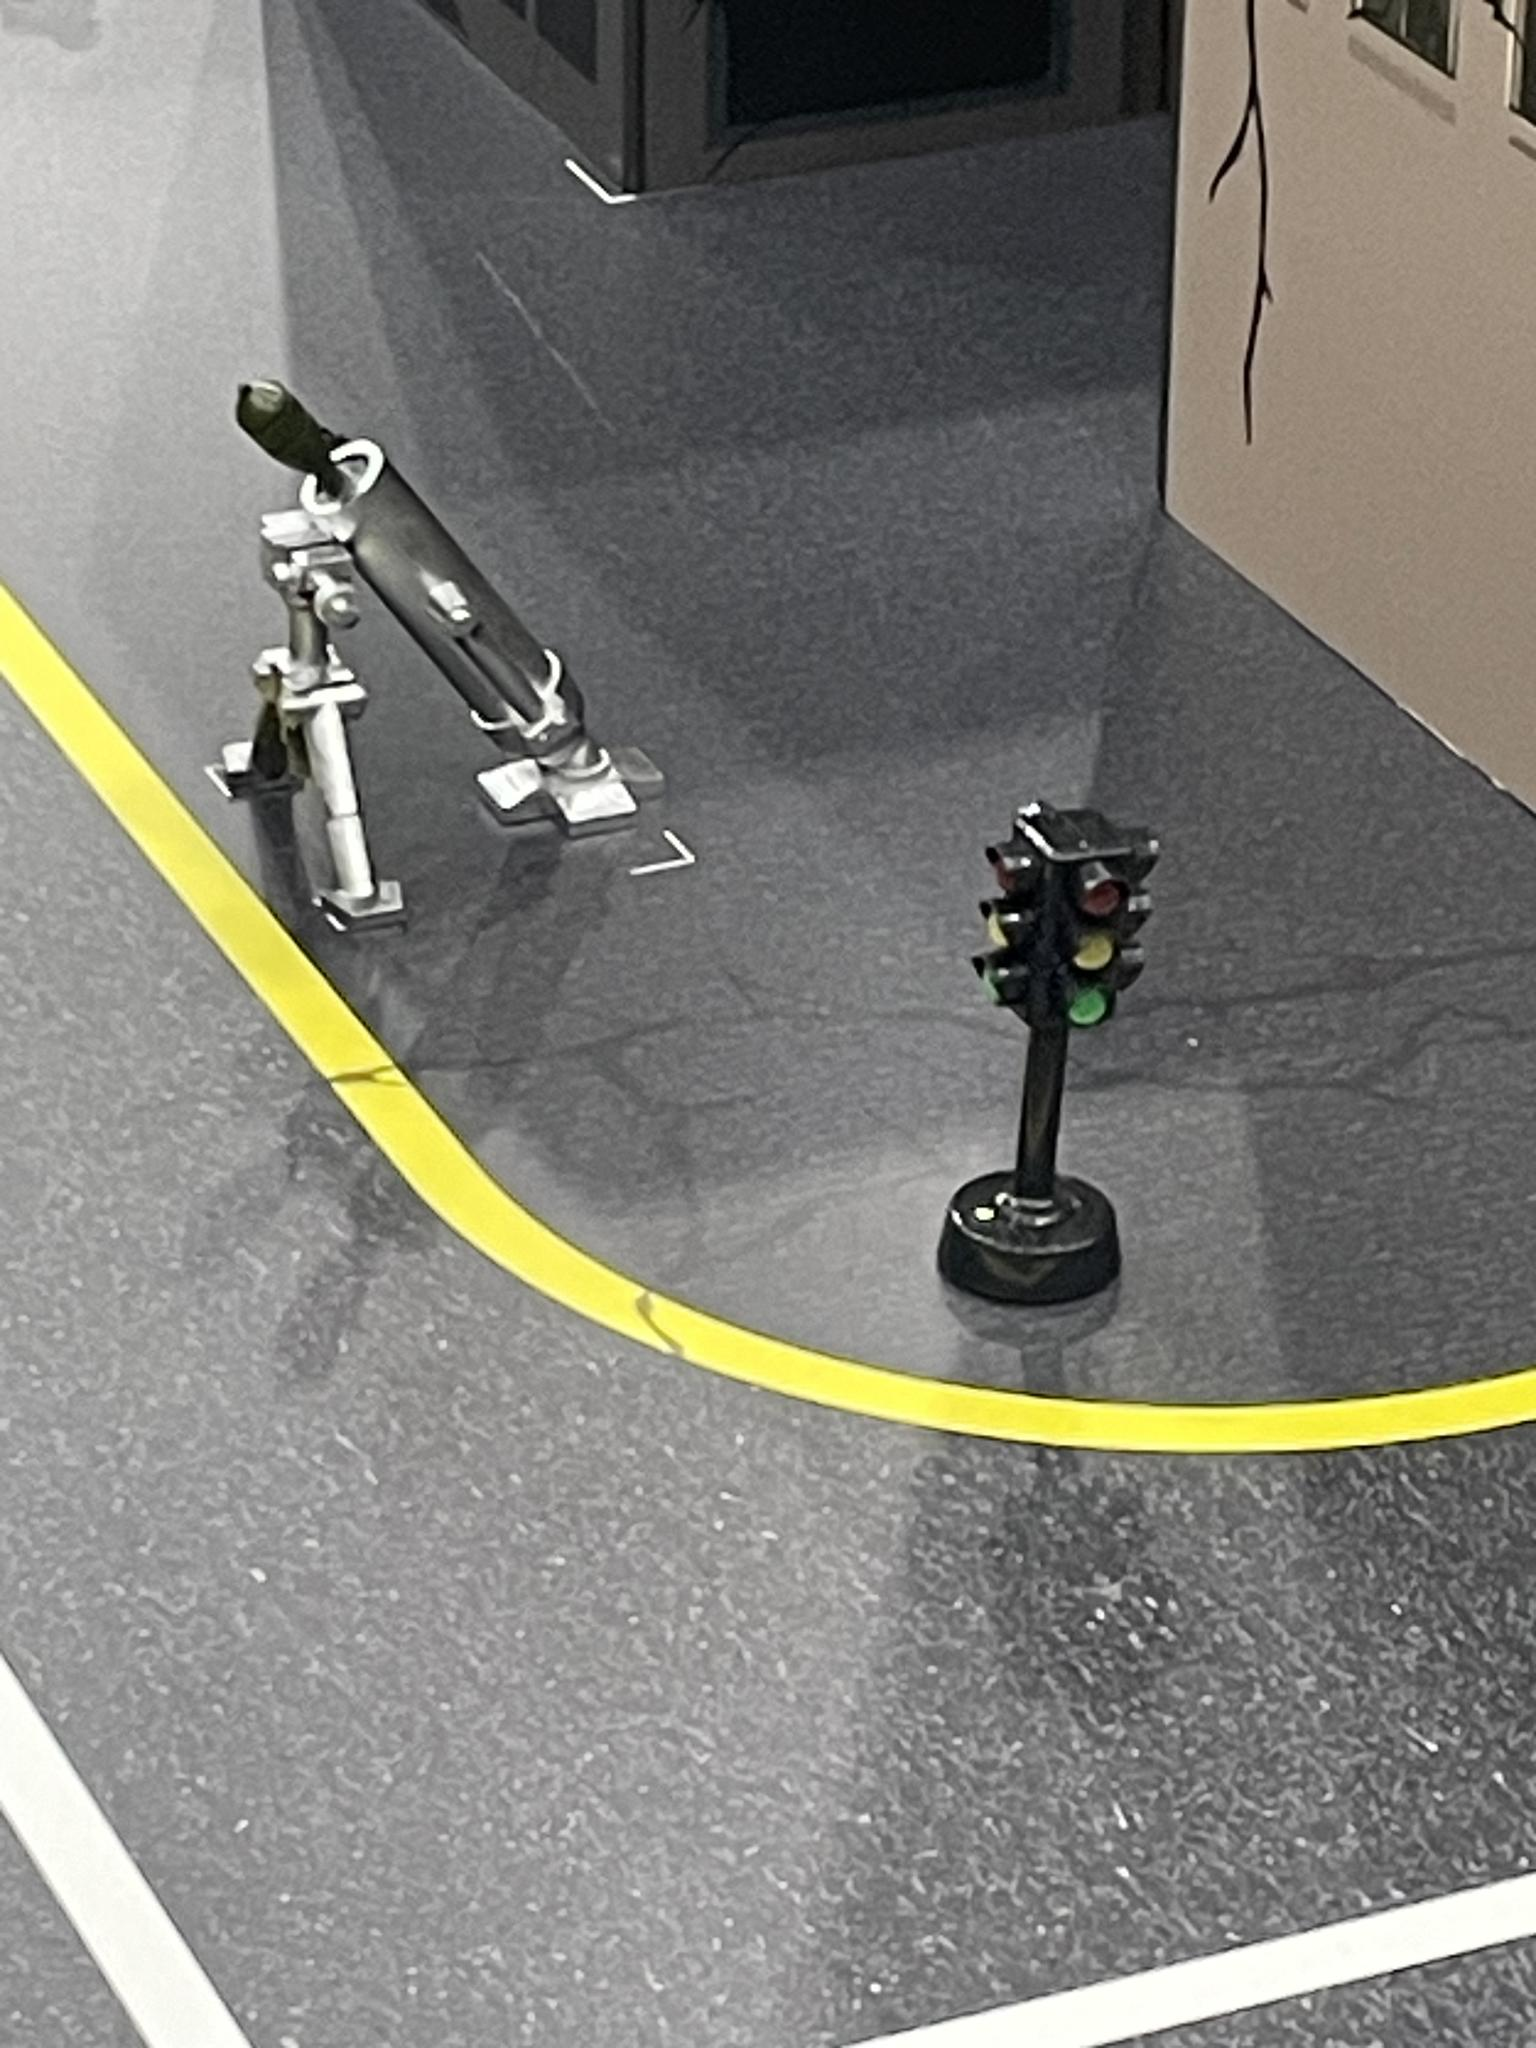Missile: (194, 374, 678, 922)
